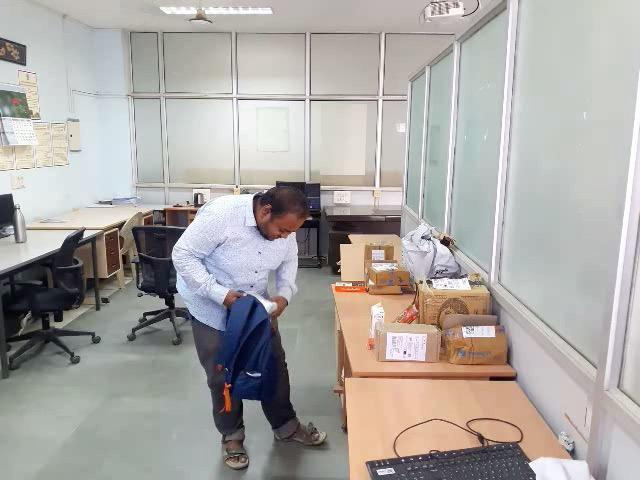shoplifting: (139, 269, 370, 422)
